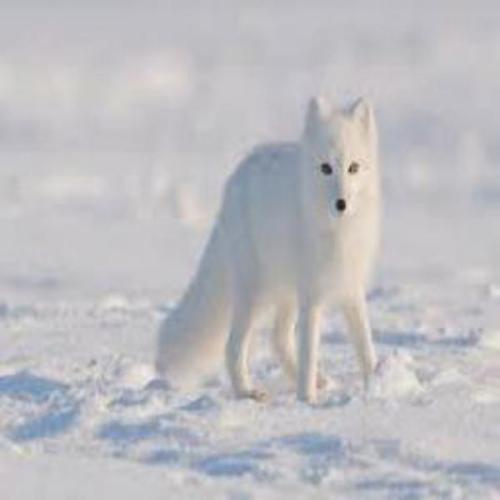arctic_fox-endangered: (165, 99, 385, 392)
